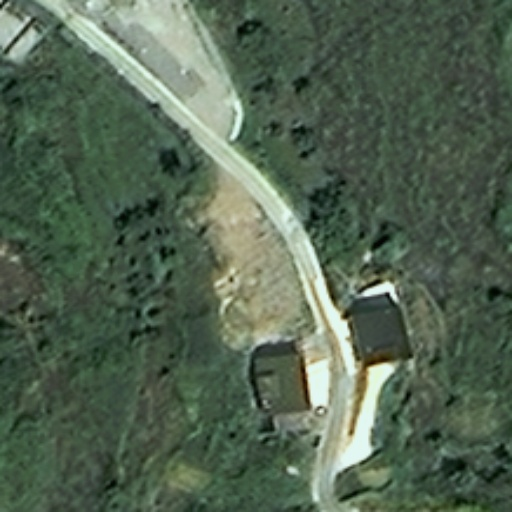landslide: (216, 176, 307, 353)
